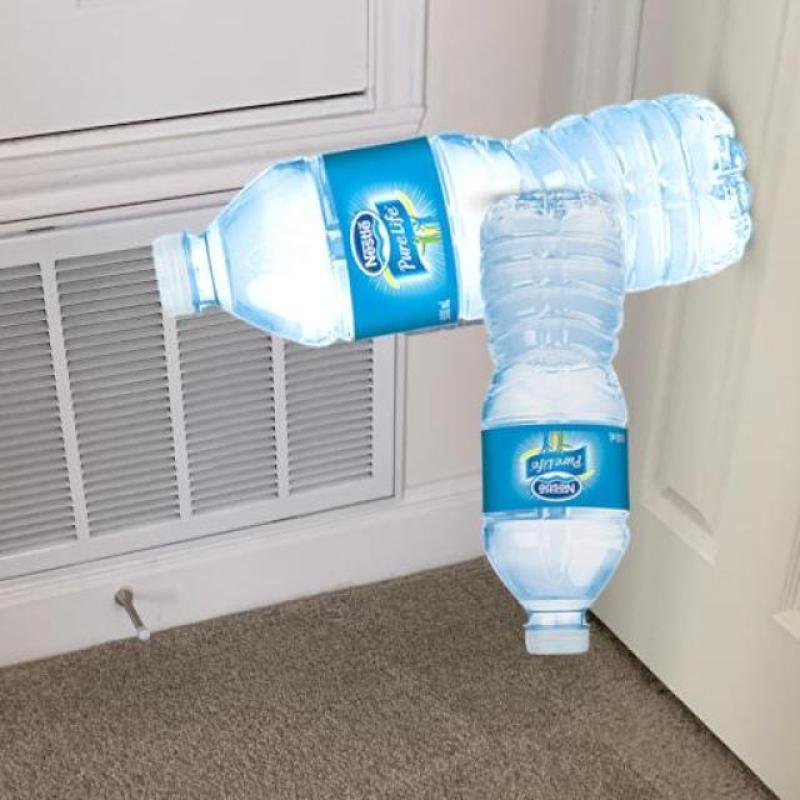botella: (147, 92, 752, 346), (480, 191, 630, 652)
